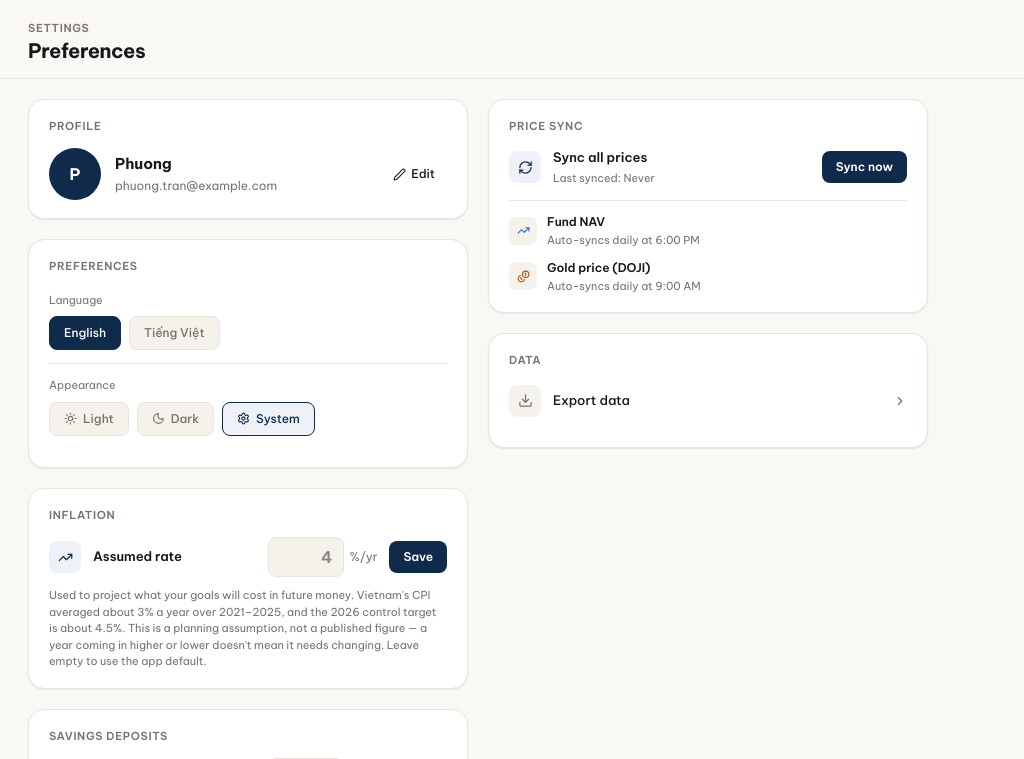
Test: DesktopSettingsView — profile modal › closes the dialog when Cancel is clicked
Click the button "Edit": [414, 174] box [381,159,447,189]
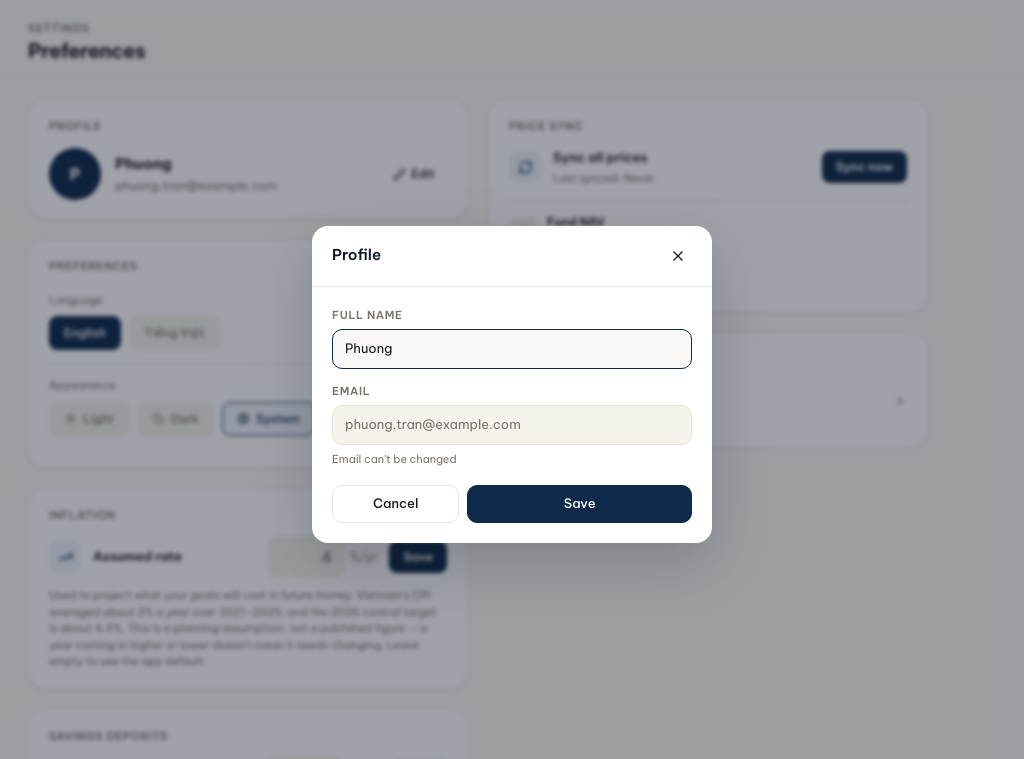
Click the button "Cancel": [396, 504] box [332,485,459,522]
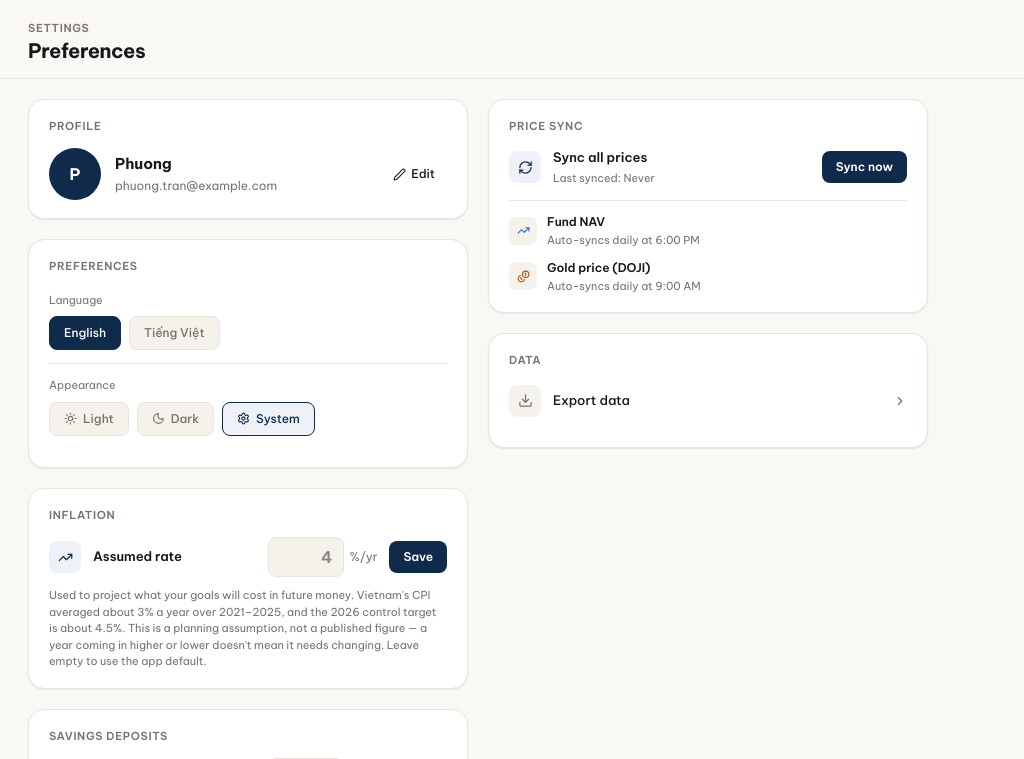
Now the dialog is gone
